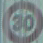Speed limit: (5, 5, 42, 40)
